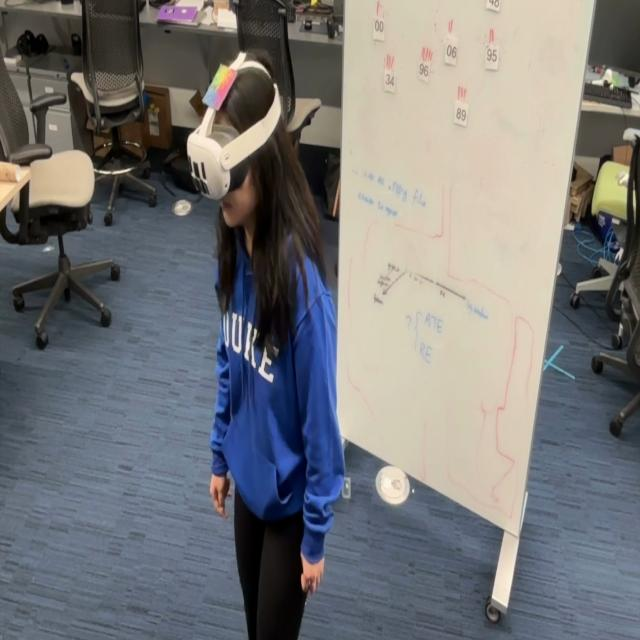Headset: (186, 59, 282, 201)
Marker: (203, 61, 235, 120)
